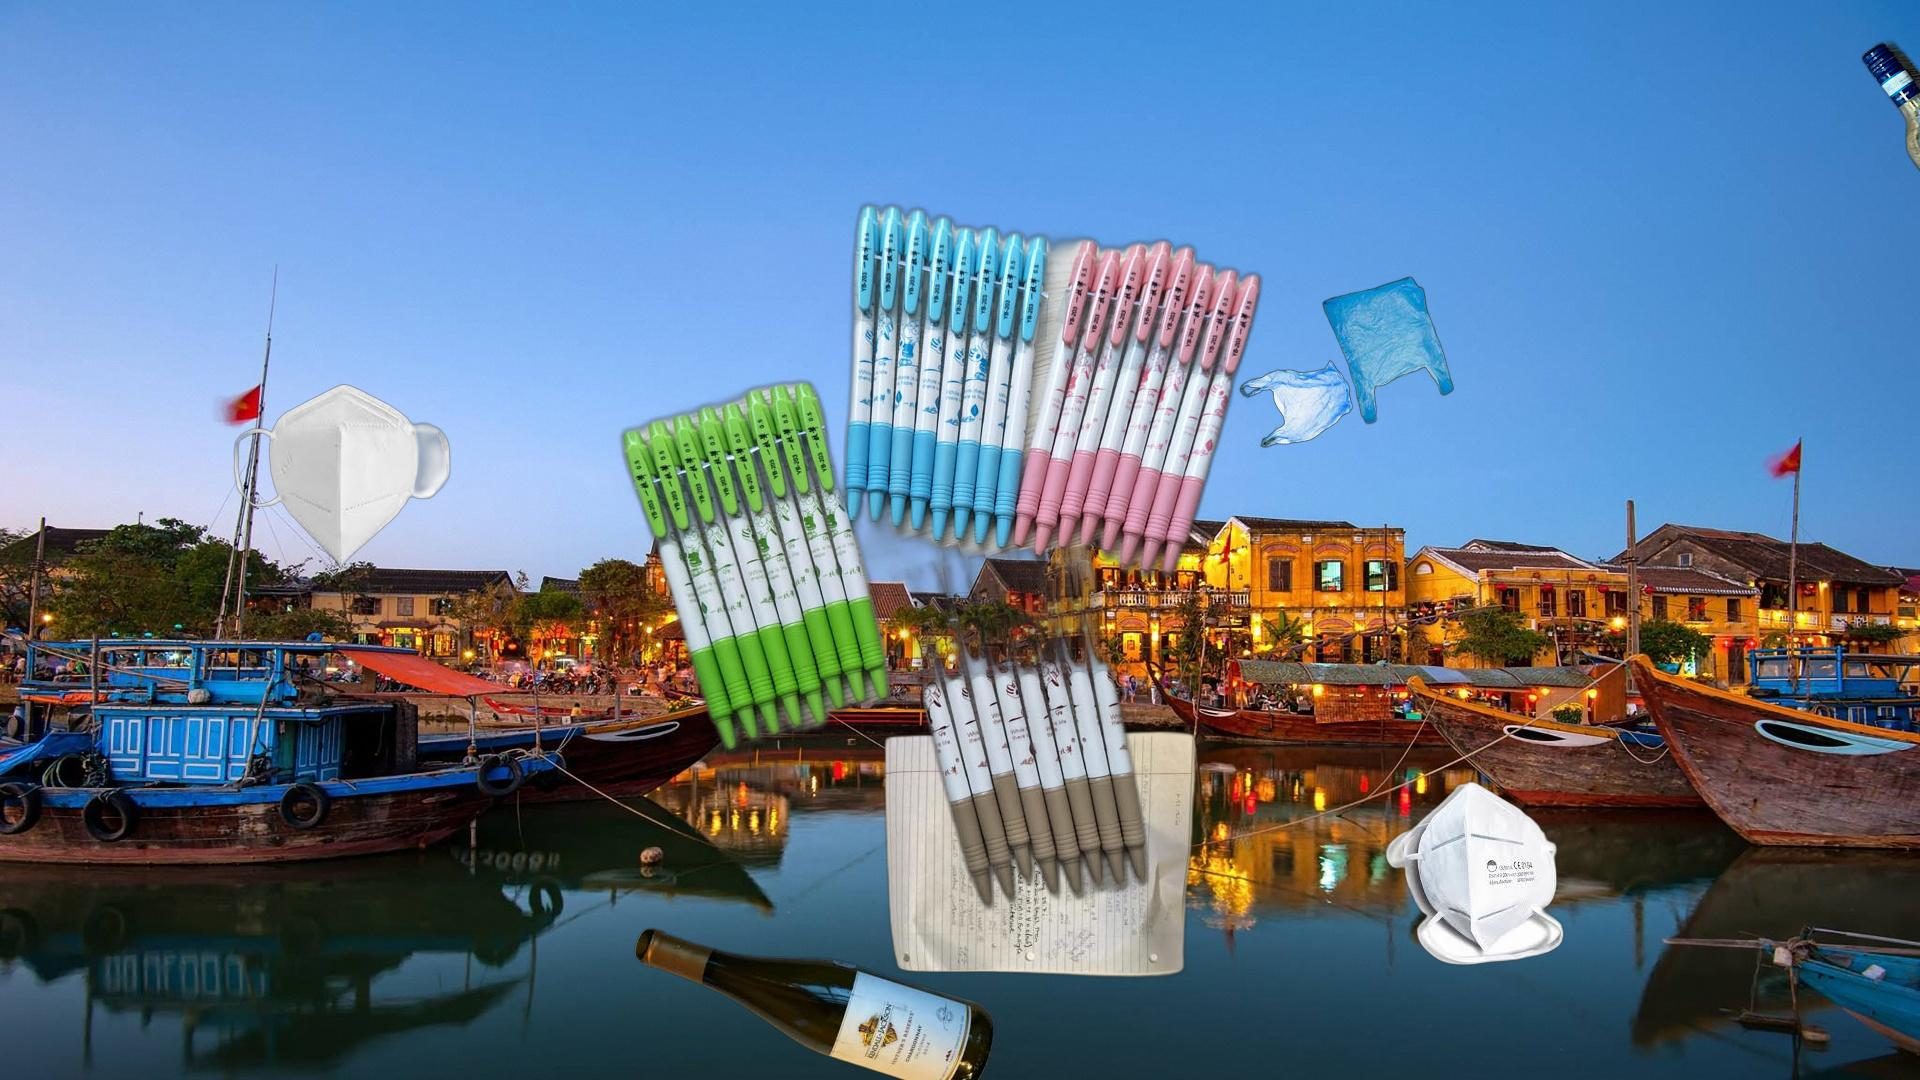glass: (568, 820, 999, 1080), (1857, 35, 1920, 294)
metal-cans: (1893, 762, 1920, 929)
paper: (880, 727, 1201, 981)
penholder: (615, 198, 1269, 937)
plastic-bag: (1238, 274, 1457, 450)
trash: (230, 382, 453, 572), (1382, 779, 1566, 968)
